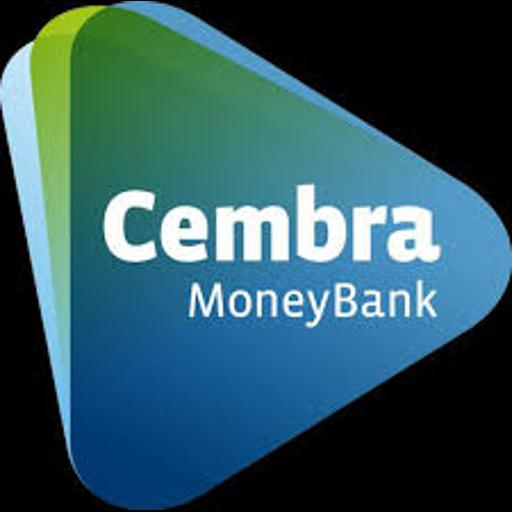Cembra Money Bank AG: (0, 1, 512, 510)
